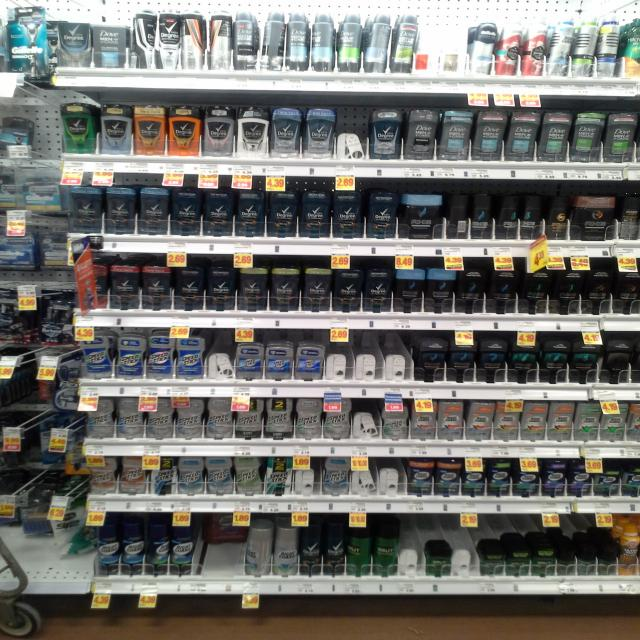empty_space: (0, 0, 16, 46), (0, 0, 17, 35), (0, 0, 18, 32), (0, 0, 14, 34), (0, 0, 14, 33), (0, 0, 11, 42), (0, 0, 13, 35), (0, 0, 11, 41), (0, 0, 15, 30), (0, 0, 14, 32), (0, 0, 13, 34), (0, 0, 13, 33), (0, 0, 12, 35), (0, 0, 16, 26), (0, 0, 13, 32), (0, 0, 12, 33), (0, 0, 11, 36), (0, 0, 14, 28), (0, 0, 10, 39), (0, 0, 9, 43), (0, 0, 12, 32), (0, 0, 10, 38), (0, 0, 9, 42), (0, 0, 12, 31), (0, 0, 9, 41), (0, 0, 11, 33), (0, 0, 10, 36), (0, 0, 9, 40), (0, 0, 12, 30), (0, 0, 11, 32), (0, 0, 9, 39), (0, 0, 10, 35), (0, 0, 12, 29), (0, 0, 8, 43), (0, 0, 11, 31), (0, 0, 13, 26), (0, 0, 8, 42), (0, 0, 10, 33), (0, 0, 11, 30), (0, 0, 12, 27), (0, 0, 9, 36), (0, 0, 10, 32), (0, 0, 11, 29), (0, 0, 9, 35), (0, 0, 8, 39), (0, 0, 11, 28), (0, 0, 9, 34), (0, 0, 15, 20), (0, 0, 10, 30), (0, 0, 11, 27), (0, 0, 7, 42), (0, 0, 10, 29), (0, 0, 8, 36), (0, 0, 9, 32), (0, 0, 11, 26), (0, 0, 8, 35), (0, 0, 10, 28), (0, 0, 7, 40), (0, 0, 12, 23), (0, 0, 11, 25), (0, 0, 8, 34), (0, 0, 10, 27), (0, 0, 11, 24), (0, 0, 10, 26), (0, 0, 8, 32), (0, 0, 11, 23), (0, 0, 10, 25), (0, 0, 7, 35), (0, 0, 9, 27), (0, 0, 10, 24), (0, 0, 9, 26), (0, 0, 10, 23), (0, 0, 9, 25), (0, 0, 7, 32), (0, 0, 9, 24), (0, 0, 9, 23), (0, 0, 8, 25), (0, 0, 9, 22), (0, 0, 8, 24), (0, 0, 8, 23), (0, 0, 7, 25), (0, 0, 7, 24), (0, 0, 7, 22), (0, 0, 5, 23)
